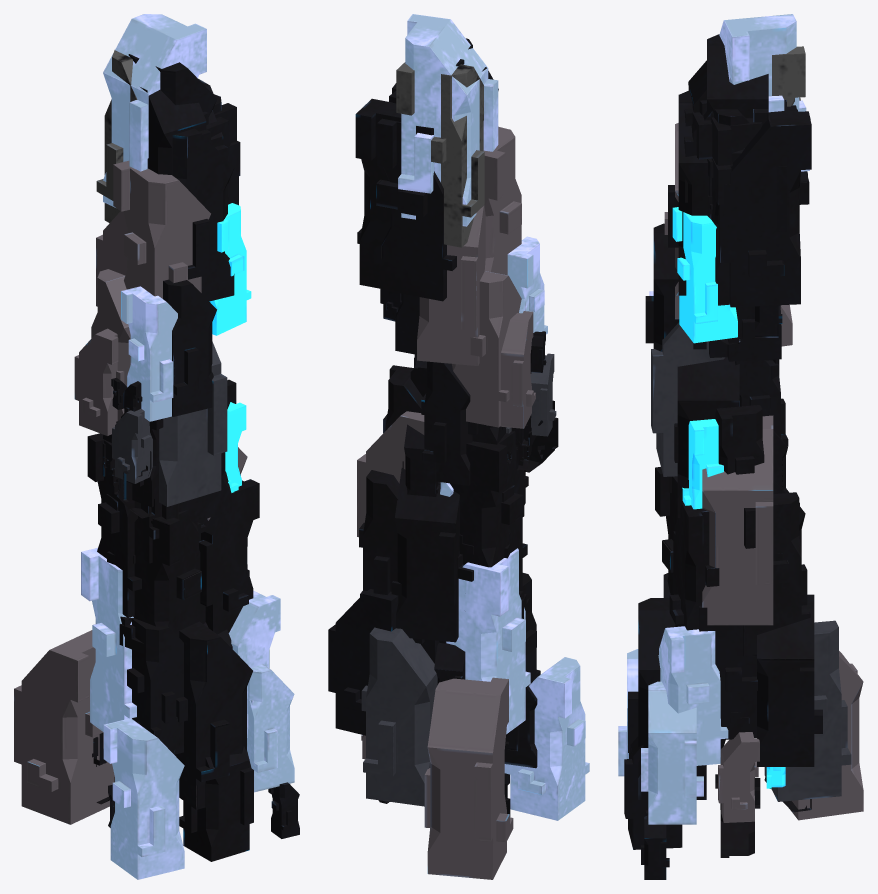
File: monolith.glb
The picture shows the model from 3 angles, left to right: view 1: azimuth 30°, elevation 25°; view 2: azimuth 150°, elevation 25°; view 3: azimuth 270°, elevation 25°; orthographic projection. The views are drawn at different scales.
Visible parts, largest first — view 1: Monolith; view 2: Monolith; view 3: Monolith.
Part boxes in pixels (x1,y1,x2,y2): Monolith: (14, 14, 299, 879); Monolith: (328, 14, 589, 879); Monolith: (618, 14, 863, 879).
Size of the model in its own units: 7.84 by 31.35 by 8.45.
1 material, 1 textured.
